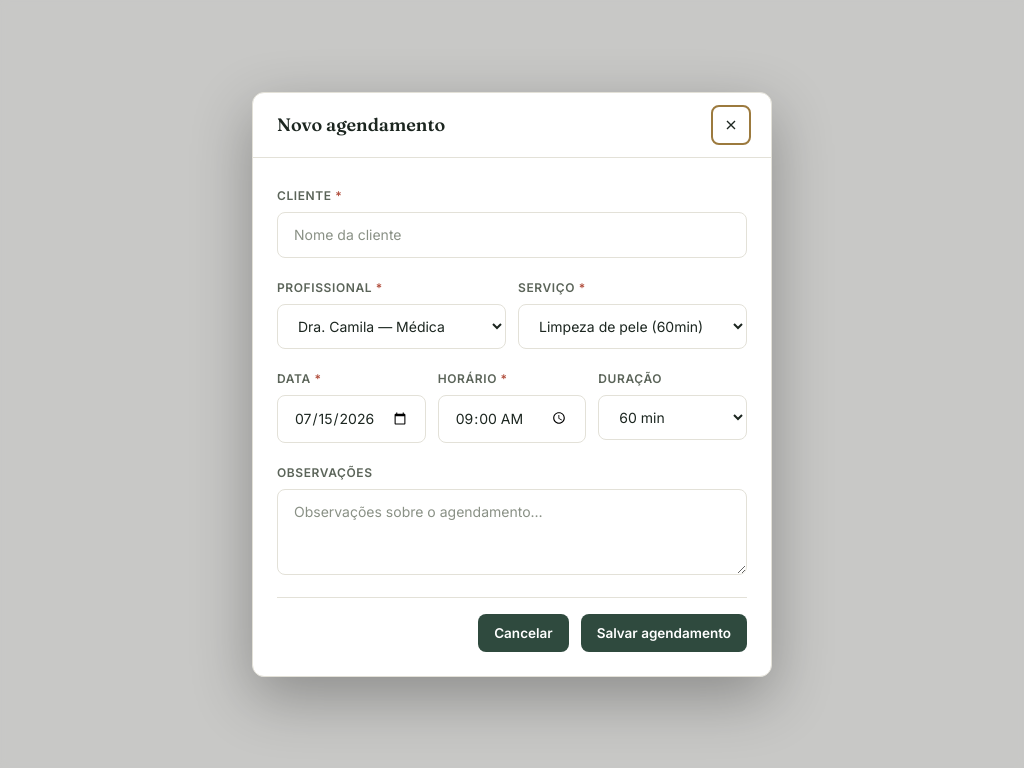
Scenario: AgendamentoModal › deve mostrar toast de erro ao submeter sem profissional
This screenshot has width=1024, height=768.
Type "Maria Silva" into the field with placeholder "Nome da cliente" at x=512, y=234, box [277,212,747,258]
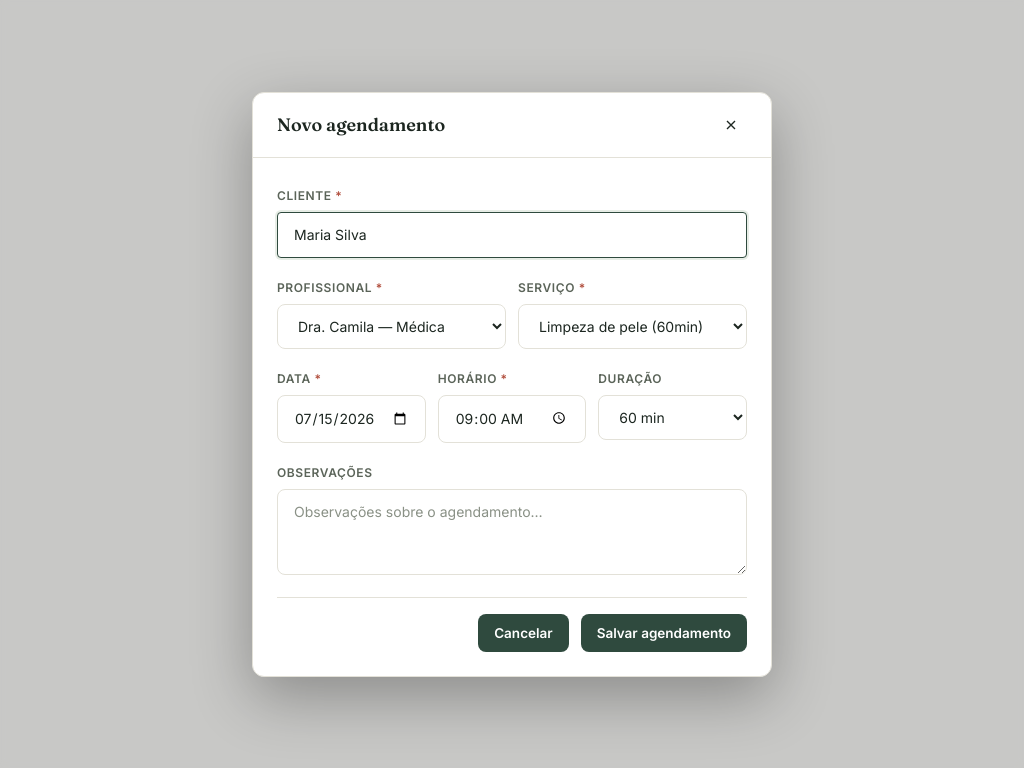
Click the button "Salvar agendamento" at x=664, y=632, box [581,614,747,652]
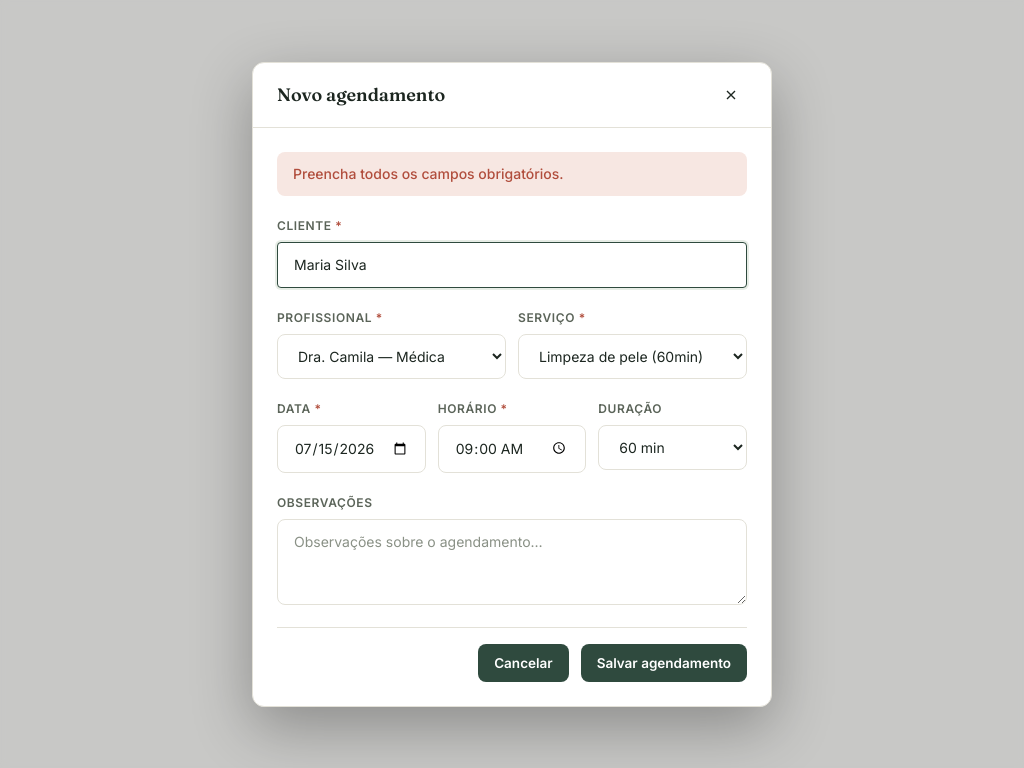
Result: the text "Preencha todos os campos obrigatórios." is shown at [277,152,747,196]
